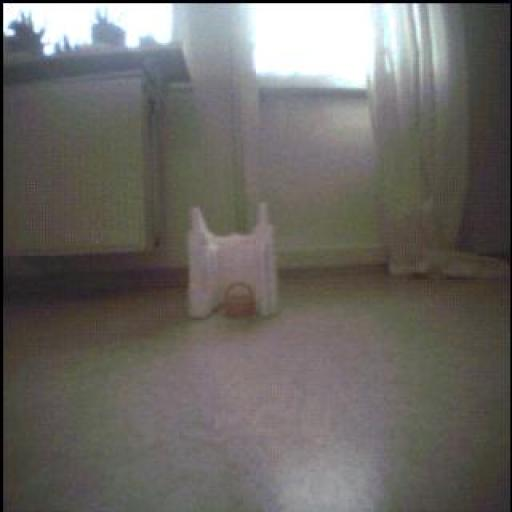Basket: (223, 283, 257, 318)
